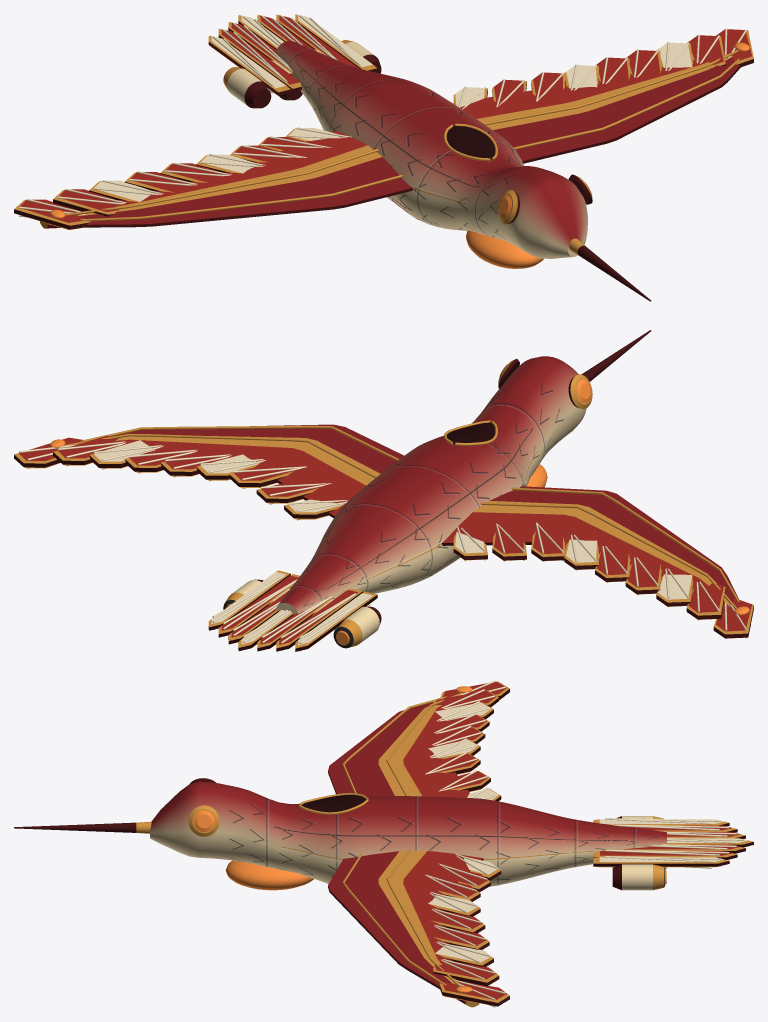
3 renders of one model, top to bottom at view 1: azimuth 30°, elevation 25°; view 2: azimuth 150°, elevation 25°; view 3: azimuth 270°, elevation 25°, orthographic. The views are drawn at different scales.
Parts seen in each view (by area): view 1: hummingbird_hull; view 2: hummingbird_hull; view 3: hummingbird_hull.
Part boxes in pixels (x1,y1,x2,y2): hummingbird_hull: [14, 14, 753, 301]; hummingbird_hull: [14, 330, 753, 651]; hummingbird_hull: [14, 680, 753, 1007].
Size of the model in its own units: 17 by 2.47 by 16.53.
Materials: 1 (1 with a texture image).
